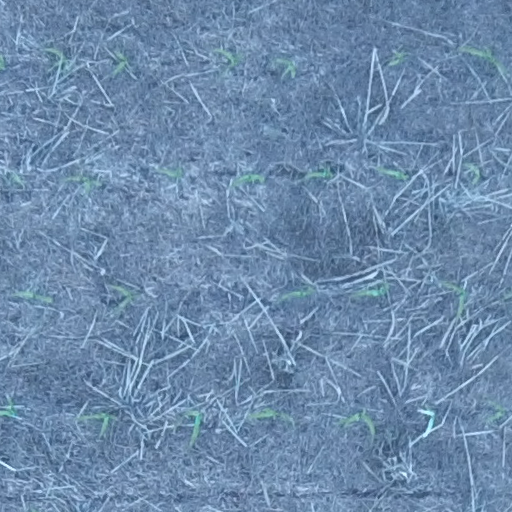planta: (456, 45, 507, 75), (336, 410, 376, 434), (440, 280, 466, 316), (76, 410, 113, 434), (247, 406, 291, 425), (61, 174, 102, 193), (181, 409, 202, 442), (108, 284, 135, 308), (353, 280, 389, 297), (228, 173, 266, 189), (211, 47, 242, 66), (278, 285, 315, 300), (374, 165, 408, 180), (15, 290, 53, 303), (273, 56, 296, 76), (45, 47, 68, 66), (303, 165, 333, 179), (485, 401, 505, 422), (112, 50, 128, 75), (463, 162, 481, 184), (154, 166, 184, 179), (386, 50, 407, 67)
